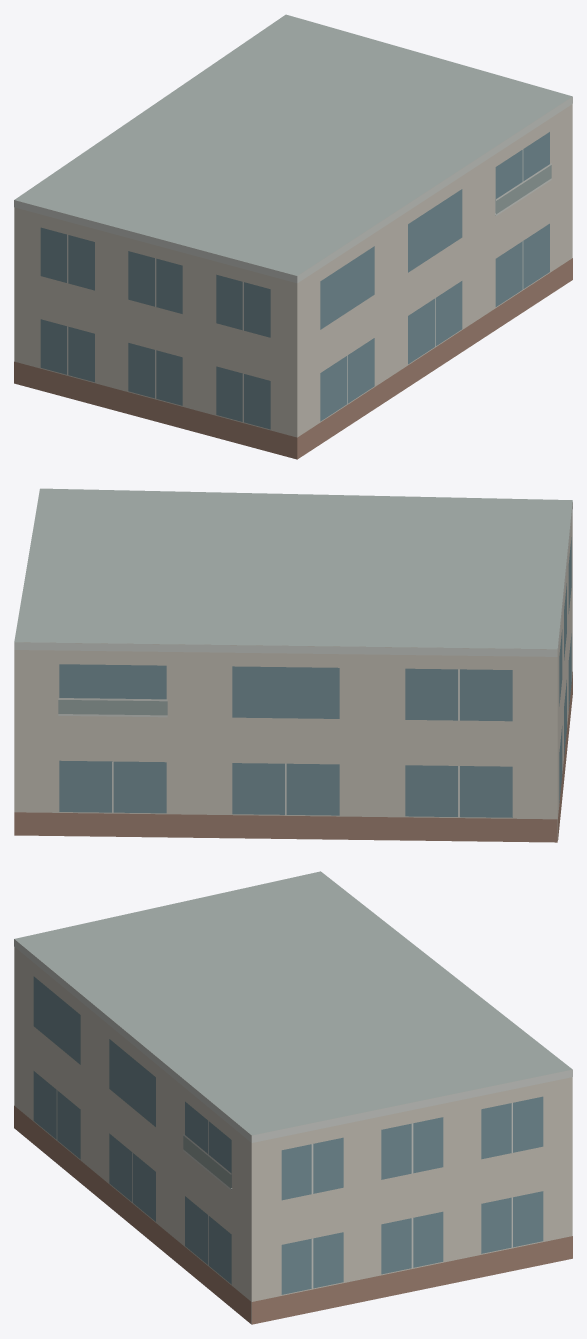
Rendered from survey-upis-32809494.glb.
The picture shows the model from 3 angles, top to bottom: view 1: azimuth 30°, elevation 25°; view 2: azimuth 150°, elevation 25°; view 3: azimuth 270°, elevation 25°; orthographic projection. The views are drawn at different scales.
Parts seen in each view (by area): view 1: survey-upis-32809494.tmp; view 2: survey-upis-32809494.tmp; view 3: survey-upis-32809494.tmp.
Boxes of the visible parts, x1,y1,x2,y2 form: survey-upis-32809494.tmp: (14, 14, 572, 459); survey-upis-32809494.tmp: (14, 488, 572, 842); survey-upis-32809494.tmp: (14, 871, 572, 1324).
Bounding box in the file's own units: 18.29 × 6.1 × 16.34.
